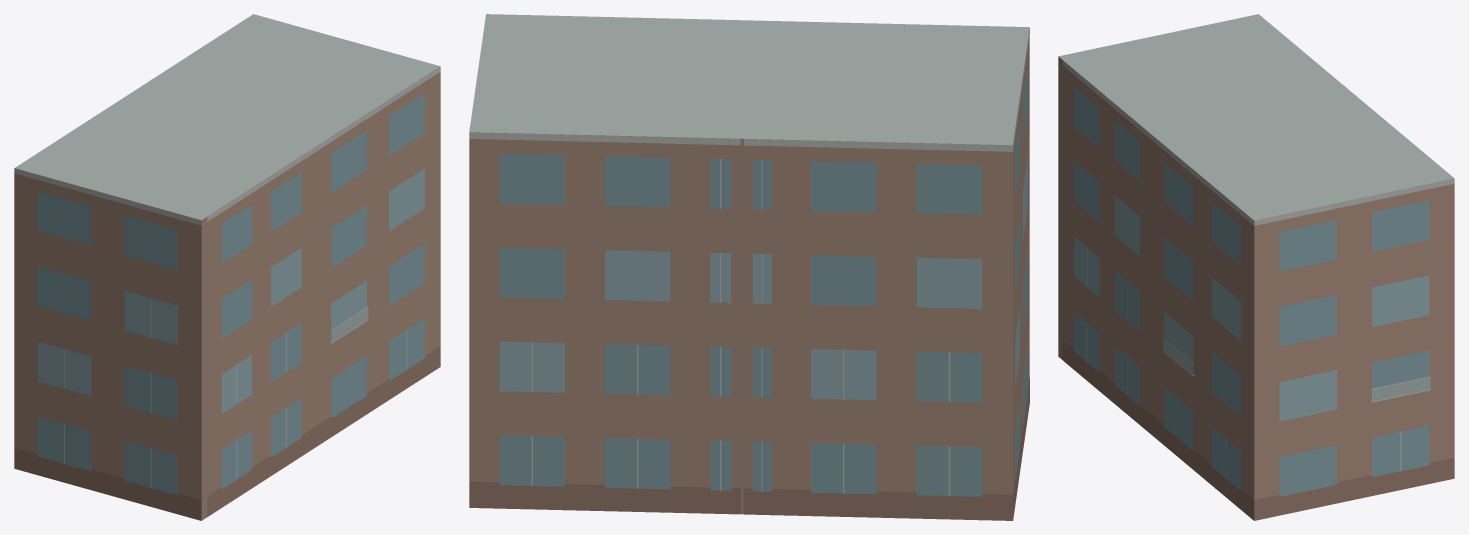
File: survey-upis-32739654.glb
3 views of the same model, side by side, from view 1: azimuth 30°, elevation 25°; view 2: azimuth 150°, elevation 25°; view 3: azimuth 270°, elevation 25° (orthographic). The views are drawn at different scales.
Visible parts, largest first — view 1: survey-upis-32739654.tmp; view 2: survey-upis-32739654.tmp; view 3: survey-upis-32739654.tmp.
Part boxes in pixels (x1=…): survey-upis-32739654.tmp: x1=14, y1=14, x2=440, y2=520; survey-upis-32739654.tmp: x1=469, y1=14, x2=1029, y2=520; survey-upis-32739654.tmp: x1=1058, y1=14, x2=1454, y2=520.
Size of the model in its own units: 20.26 by 13.72 by 16.42.
